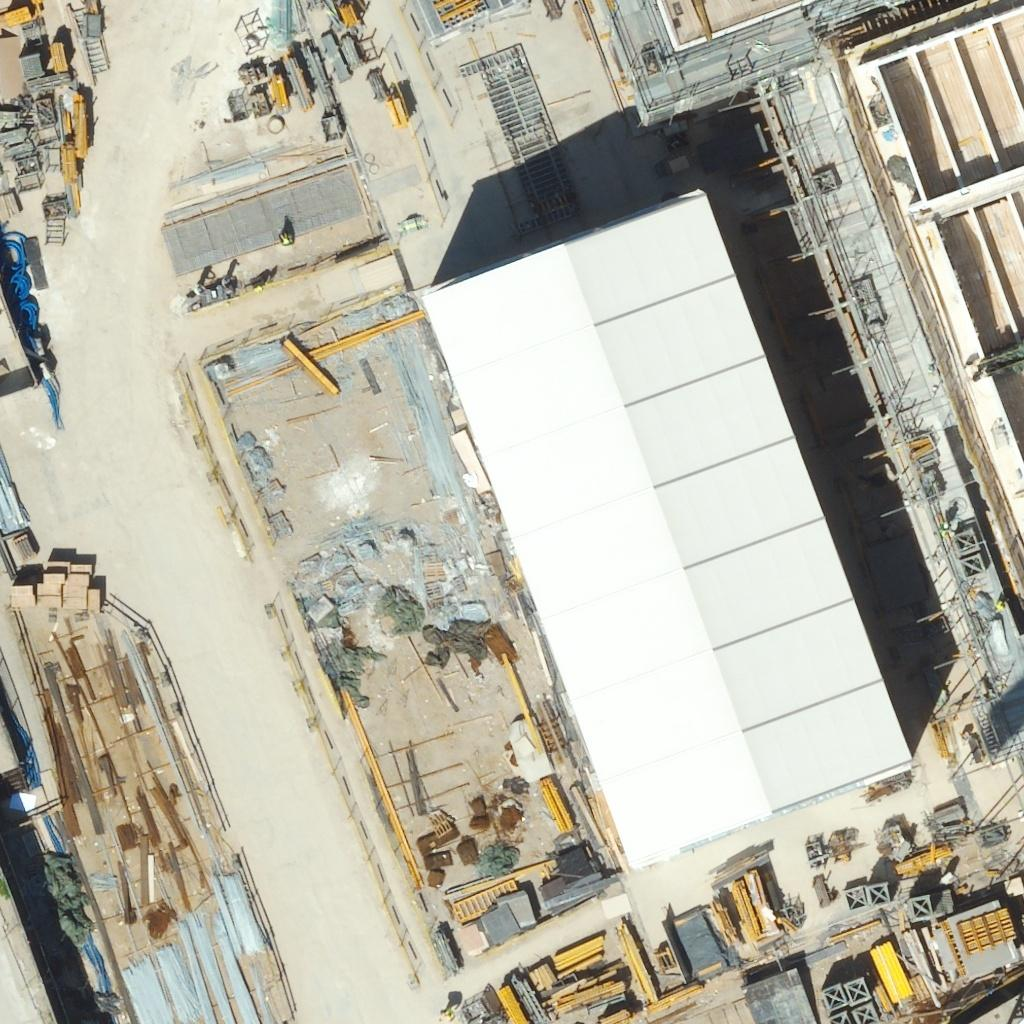pracownik: (189, 261, 216, 297), (220, 257, 242, 289)
